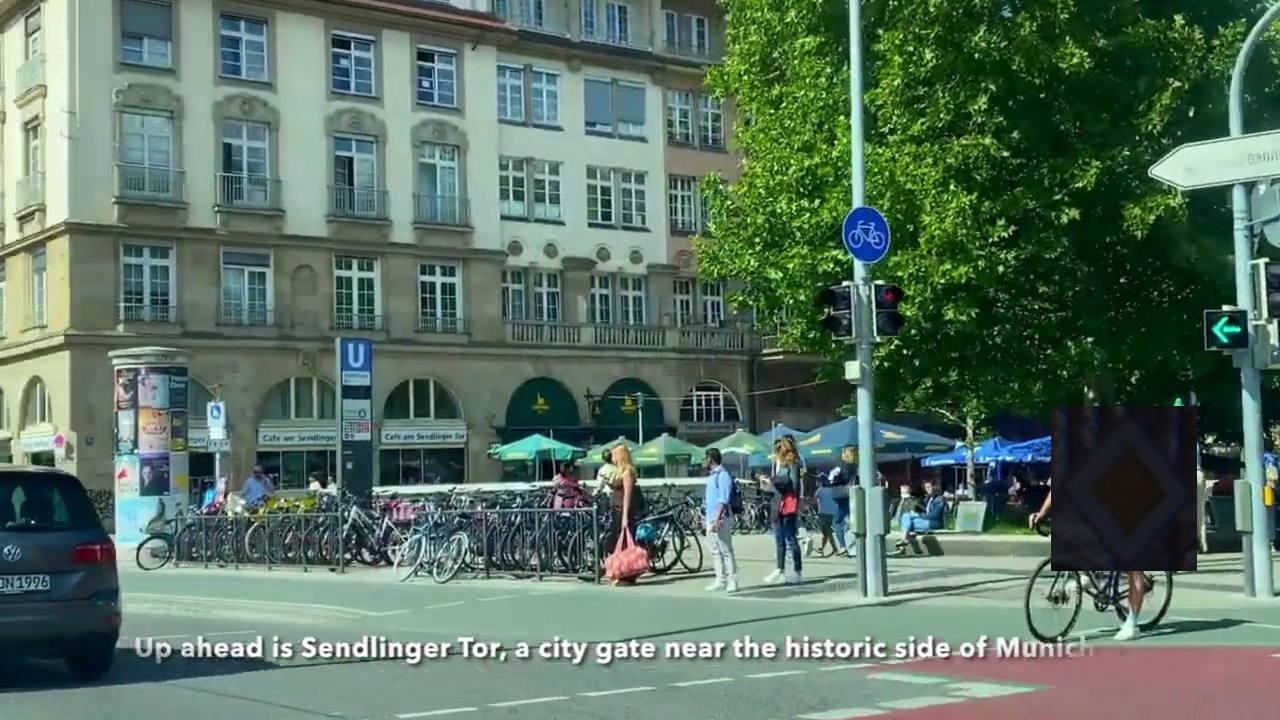Priority road: (1051, 406, 1197, 571)
